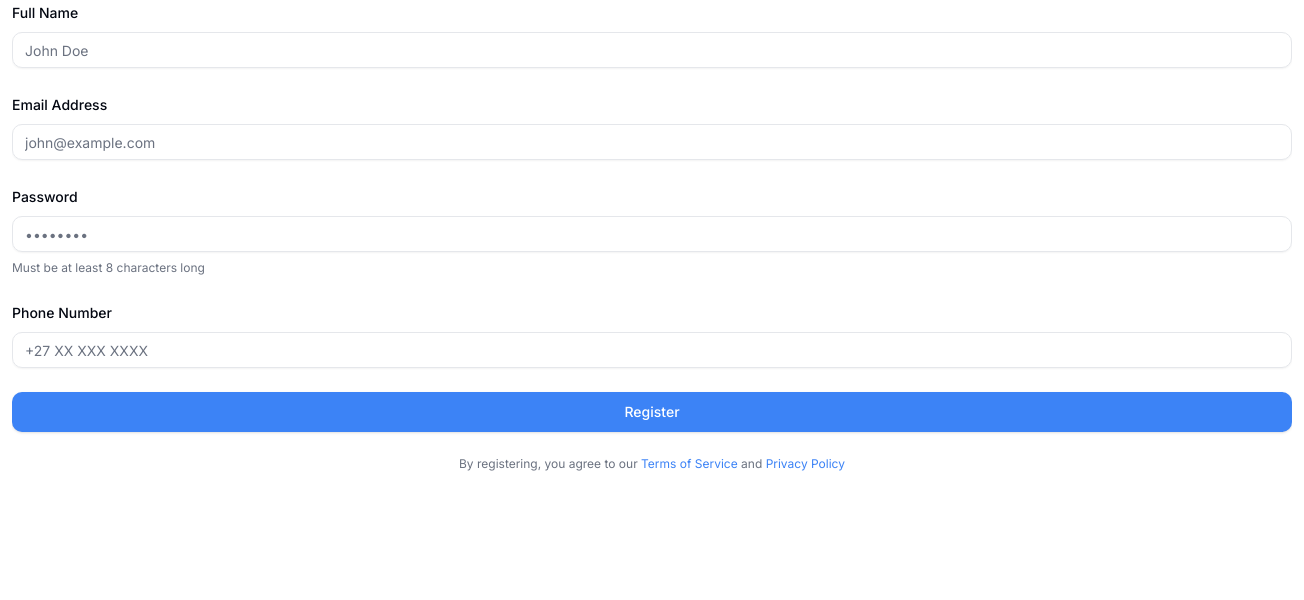
Test: User Registration › Form Validation › should require all mandatory fields
The image size is (1304, 600).
# Try to submit empty form
Click the button "Register" at {"x": 652, "y": 412}, box [12, 392, 1292, 432]
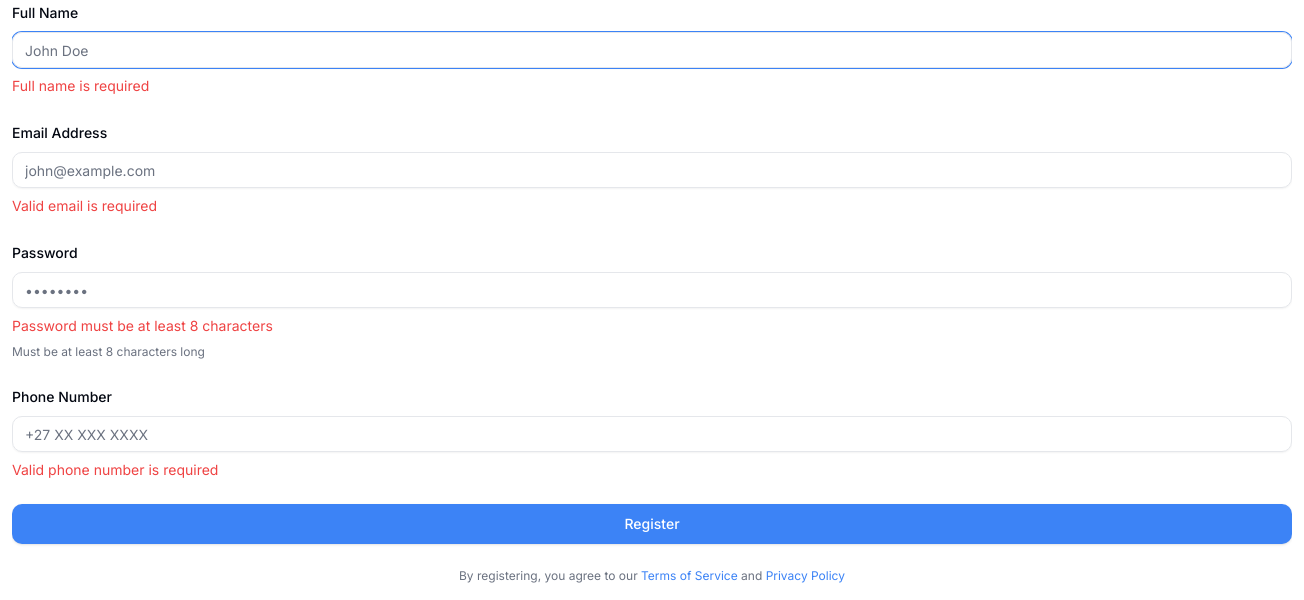
Expected: the text "Password must be at least 8 characters" is shown, [12, 317, 273, 334]
Now the text "Full name is required" is shown, box [12, 77, 149, 94]
Now the text "Valid email is required" is shown, box [12, 197, 157, 214]
